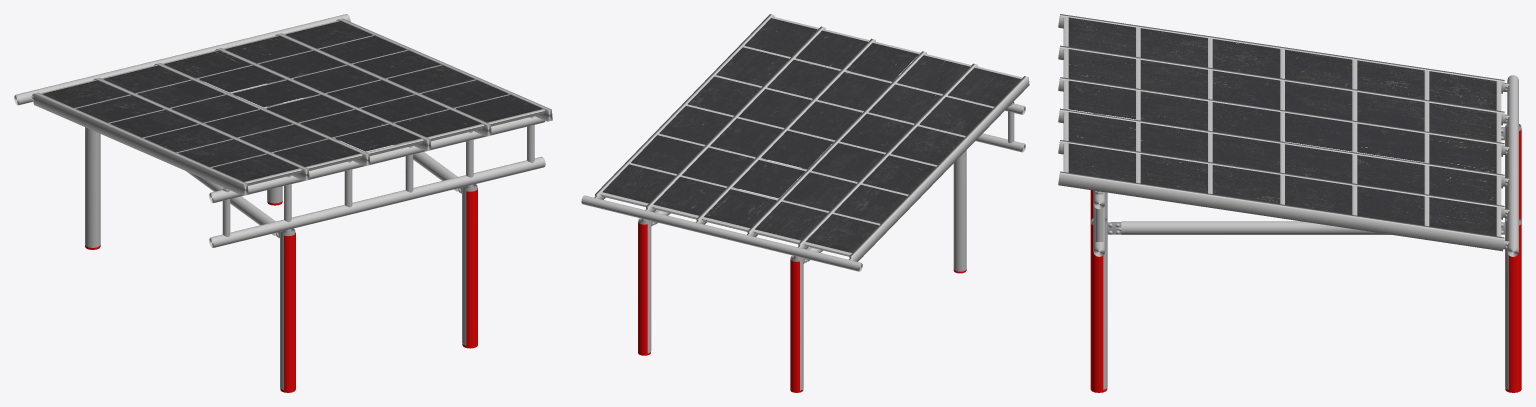
File: vordach.fbx
The picture shows the model from 3 angles, left to right: view 1: azimuth 30°, elevation 25°; view 2: azimuth 150°, elevation 25°; view 3: azimuth 270°, elevation 25°; orthographic projection. The views are drawn at different scales.
Parts seen in each view (by area): view 1: glassscheiben, vordach, colmesh; view 2: glassscheiben, vordach, colmesh; view 3: glassscheiben, vordach, colmesh.
Part boxes in pixels (<box>): glassscheiben: <box>42,21,542,181</box>; vordach: <box>14,14,552,389</box>; colmesh: <box>85,188,477,392</box>; glassscheiben: <box>603,18,1020,252</box>; vordach: <box>581,14,1029,390</box>; colmesh: <box>638,222,966,392</box>; glassscheiben: <box>1068,17,1496,236</box>; vordach: <box>1058,14,1521,389</box>; colmesh: <box>1090,128,1521,392</box>.
Bounding box in the file's own units: 689 × 465 × 787.
